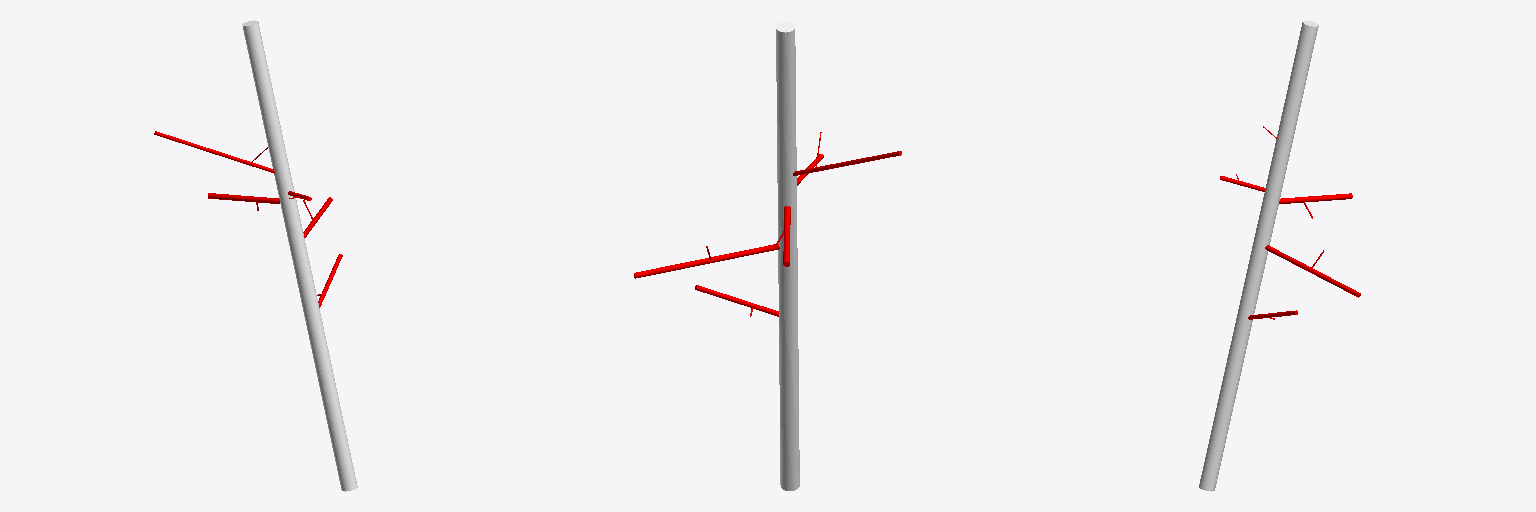
robot.urdf — tree_79.urdf:
<?xml version='1.0' encoding='UTF-8'?>
<robot name="tree_79.urdf">
  <link name="branch_0">
    <inertial>
      <origin xyz="0.0 0.0 0.0" rpy="0.0 -0.0 0.0"/>
      <mass value="0.1"/>
      <inertia ixx="0.001" ixy="0.0" ixz="0.0" iyy="0.001" iyz="0.0" izz="0.001"/>
    </inertial>
    <visual name="branch_0_visual">
      <geometry>
        <cylinder radius="0.1415256445273359" length="8.578703348143257"/>
      </geometry>
      <material name="branch_material"/>
      <origin xyz="-0.47426705361641003 0.8879117211304809 4.16955888808327" rpy="2.7755575615628914e-17 0.23689203825002822 2.0613796187665487"/>
    </visual>
    <collision name="branch_0_collision">
      <geometry>
        <cylinder radius="0.1415256445273359" length="8.578703348143257"/>
      </geometry>
      <origin xyz="-0.47426705361641003 0.8879117211304809 4.16955888808327" rpy="2.7755575615628914e-17 0.23689203825002822 2.0613796187665487"/>
    </collision>
  </link>
  <link name="branch_1">
    <inertial>
      <origin xyz="0.0 0.0 0.0" rpy="0.0 -0.0 0.0"/>
      <mass value="0.1"/>
      <inertia ixx="0.001" ixy="0.0" ixz="0.0" iyy="0.001" iyz="0.0" izz="0.001"/>
    </inertial>
    <visual name="branch_1_visual">
      <geometry>
        <cylinder radius="0.043824155608109545" length="2.3409637559969525"/>
      </geometry>
      <material name="semantic_material"/>
      <origin xyz="0.0 0.0 0.0" rpy="0.0 -0.0 0.0"/>
    </visual>
    <collision name="branch_1_collision">
      <geometry>
        <cylinder radius="0.043824155608109545" length="2.3409637559969525"/>
      </geometry>
      <origin xyz="0.0 0.0 0.0" rpy="0.0 -0.0 0.0"/>
    </collision>
  </link>
  <link name="branch_2">
    <inertial>
      <origin xyz="0.0 0.0 0.0" rpy="0.0 -0.0 0.0"/>
      <mass value="0.1"/>
      <inertia ixx="0.001" ixy="0.0" ixz="0.0" iyy="0.001" iyz="0.0" izz="0.001"/>
    </inertial>
    <visual name="branch_2_visual">
      <geometry>
        <cylinder radius="0.013202871691664422" length="0.41410008428302064"/>
      </geometry>
      <material name="semantic_material"/>
      <origin xyz="0.0 0.0 0.0" rpy="0.0 -0.0 0.0"/>
    </visual>
    <collision name="branch_2_collision">
      <geometry>
        <cylinder radius="0.013202871691664422" length="0.41410008428302064"/>
      </geometry>
      <origin xyz="0.0 0.0 0.0" rpy="0.0 -0.0 0.0"/>
    </collision>
  </link>
  <link name="branch_3">
    <inertial>
      <origin xyz="0.0 0.0 0.0" rpy="0.0 -0.0 0.0"/>
      <mass value="0.1"/>
      <inertia ixx="0.001" ixy="0.0" ixz="0.0" iyy="0.001" iyz="0.0" izz="0.001"/>
    </inertial>
    <visual name="branch_3_visual">
      <geometry>
        <cylinder radius="0.03819354930536758" length="1.500390755220034"/>
      </geometry>
      <material name="semantic_material"/>
      <origin xyz="0.0 0.0 0.0" rpy="0.0 -0.0 0.0"/>
    </visual>
    <collision name="branch_3_collision">
      <geometry>
        <cylinder radius="0.03819354930536758" length="1.500390755220034"/>
      </geometry>
      <origin xyz="0.0 0.0 0.0" rpy="0.0 -0.0 0.0"/>
    </collision>
  </link>
  <link name="branch_4">
    <inertial>
      <origin xyz="0.0 0.0 0.0" rpy="0.0 -0.0 0.0"/>
      <mass value="0.1"/>
      <inertia ixx="0.001" ixy="0.0" ixz="0.0" iyy="0.001" iyz="0.0" izz="0.001"/>
    </inertial>
    <visual name="branch_4_visual">
      <geometry>
        <cylinder radius="0.013591816285844511" length="0.20842863907651513"/>
      </geometry>
      <material name="semantic_material"/>
      <origin xyz="0.0 0.0 0.0" rpy="0.0 -0.0 0.0"/>
    </visual>
    <collision name="branch_4_collision">
      <geometry>
        <cylinder radius="0.013591816285844511" length="0.20842863907651513"/>
      </geometry>
      <origin xyz="0.0 0.0 0.0" rpy="0.0 -0.0 0.0"/>
    </collision>
  </link>
  <link name="branch_5">
    <inertial>
      <origin xyz="0.0 0.0 0.0" rpy="0.0 -0.0 0.0"/>
      <mass value="0.1"/>
      <inertia ixx="0.001" ixy="0.0" ixz="0.0" iyy="0.001" iyz="0.0" izz="0.001"/>
    </inertial>
    <visual name="branch_5_visual">
      <geometry>
        <cylinder radius="0.04911388080044134" length="1.6050568657706819"/>
      </geometry>
      <material name="semantic_material"/>
      <origin xyz="0.0 0.0 0.0" rpy="0.0 -0.0 0.0"/>
    </visual>
    <collision name="branch_5_collision">
      <geometry>
        <cylinder radius="0.04911388080044134" length="1.6050568657706819"/>
      </geometry>
      <origin xyz="0.0 0.0 0.0" rpy="0.0 -0.0 0.0"/>
    </collision>
  </link>
  <link name="branch_6">
    <inertial>
      <origin xyz="0.0 0.0 0.0" rpy="0.0 -0.0 0.0"/>
      <mass value="0.1"/>
      <inertia ixx="0.001" ixy="0.0" ixz="0.0" iyy="0.001" iyz="0.0" izz="0.001"/>
    </inertial>
    <visual name="branch_6_visual">
      <geometry>
        <cylinder radius="0.014735619324254164" length="0.3642210166222826"/>
      </geometry>
      <material name="semantic_material"/>
      <origin xyz="0.0 0.0 0.0" rpy="0.0 -0.0 0.0"/>
    </visual>
    <collision name="branch_6_collision">
      <geometry>
        <cylinder radius="0.014735619324254164" length="0.3642210166222826"/>
      </geometry>
      <origin xyz="0.0 0.0 0.0" rpy="0.0 -0.0 0.0"/>
    </collision>
  </link>
  <link name="branch_7">
    <inertial>
      <origin xyz="0.0 0.0 0.0" rpy="0.0 -0.0 0.0"/>
      <mass value="0.1"/>
      <inertia ixx="0.001" ixy="0.0" ixz="0.0" iyy="0.001" iyz="0.0" izz="0.001"/>
    </inertial>
    <visual name="branch_7_visual">
      <geometry>
        <cylinder radius="0.03358472869984948" length="2.531314463759947"/>
      </geometry>
      <material name="semantic_material"/>
      <origin xyz="0.0 0.0 0.0" rpy="0.0 -0.0 0.0"/>
    </visual>
    <collision name="branch_7_collision">
      <geometry>
        <cylinder radius="0.03358472869984948" length="2.531314463759947"/>
      </geometry>
      <origin xyz="0.0 0.0 0.0" rpy="0.0 -0.0 0.0"/>
    </collision>
  </link>
  <link name="branch_8">
    <inertial>
      <origin xyz="0.0 0.0 0.0" rpy="0.0 -0.0 0.0"/>
      <mass value="0.1"/>
      <inertia ixx="0.001" ixy="0.0" ixz="0.0" iyy="0.001" iyz="0.0" izz="0.001"/>
    </inertial>
    <visual name="branch_8_visual">
      <geometry>
        <cylinder radius="0.01" length="0.5770764838692389"/>
      </geometry>
      <material name="semantic_material"/>
      <origin xyz="0.0 0.0 0.0" rpy="0.0 -0.0 0.0"/>
    </visual>
    <collision name="branch_8_collision">
      <geometry>
        <cylinder radius="0.01" length="0.5770764838692389"/>
      </geometry>
      <origin xyz="0.0 0.0 0.0" rpy="0.0 -0.0 0.0"/>
    </collision>
  </link>
  <link name="branch_9">
    <inertial>
      <origin xyz="0.0 0.0 0.0" rpy="0.0 -0.0 0.0"/>
      <mass value="0.1"/>
      <inertia ixx="0.001" ixy="0.0" ixz="0.0" iyy="0.001" iyz="0.0" izz="0.001"/>
    </inertial>
    <visual name="branch_9_visual">
      <geometry>
        <cylinder radius="0.03788373082030249" length="0.9408402181987268"/>
      </geometry>
      <material name="semantic_material"/>
      <origin xyz="0.0 0.0 0.0" rpy="0.0 -0.0 0.0"/>
    </visual>
    <collision name="branch_9_collision">
      <geometry>
        <cylinder radius="0.03788373082030249" length="0.9408402181987268"/>
      </geometry>
      <origin xyz="0.0 0.0 0.0" rpy="0.0 -0.0 0.0"/>
    </collision>
  </link>
  <link name="branch_10">
    <inertial>
      <origin xyz="0.0 0.0 0.0" rpy="0.0 -0.0 0.0"/>
      <mass value="0.1"/>
      <inertia ixx="0.001" ixy="0.0" ixz="0.0" iyy="0.001" iyz="0.0" izz="0.001"/>
    </inertial>
    <visual name="branch_10_visual">
      <geometry>
        <cylinder radius="0.01" length="0.2746321736475831"/>
      </geometry>
      <material name="semantic_material"/>
      <origin xyz="0.0 0.0 0.0" rpy="0.0 -0.0 0.0"/>
    </visual>
    <collision name="branch_10_collision">
      <geometry>
        <cylinder radius="0.01" length="0.2746321736475831"/>
      </geometry>
      <origin xyz="0.0 0.0 0.0" rpy="0.0 -0.0 0.0"/>
    </collision>
  </link>
  <joint name="joint_0_1" type="fixed">
    <parent link="branch_0"/>
    <child link="branch_1"/>
    <axis xyz="1. 0. 0."/>
    <origin xyz="0.3128644225658249 1.770028498312702 4.273943881531223" rpy="-1.9457485451553798 1.3292833378479827 -1.1338109014837947"/>
  </joint>
  <joint name="joint_0_3" type="fixed">
    <parent link="branch_0"/>
    <child link="branch_3"/>
    <axis xyz="1. 0. 0."/>
    <origin xyz="0.1808647155882137 1.0920591678828153 3.3530012533856093" rpy="-0.5316929223888256 1.0920739381038562 0.11078343867218736"/>
  </joint>
  <joint name="joint_0_5" type="fixed">
    <parent link="branch_0"/>
    <child link="branch_5"/>
    <axis xyz="1. 0. 0."/>
    <origin xyz="-0.9761960275884776 1.7824032252454718 5.008999165352847" rpy="3.1022123141213034 1.4114401607824731 -1.0932145211899804"/>
  </joint>
  <joint name="joint_0_7" type="fixed">
    <parent link="branch_0"/>
    <child link="branch_7"/>
    <axis xyz="1. 0. 0."/>
    <origin xyz="-1.7526467354289754 1.4644925891753673 6.1803603033468635" rpy="0.41852209257801654 1.08061377223447 -2.9080622839765415"/>
  </joint>
  <joint name="joint_0_9" type="fixed">
    <parent link="branch_0"/>
    <child link="branch_9"/>
    <axis xyz="1. 0. 0."/>
    <origin xyz="-0.633118570830509 0.678839823070022 5.437928366134033" rpy="0.42036677117351834 1.2741019748976505 -1.1972449507521084"/>
  </joint>
  <joint name="joint_1_2" type="fixed">
    <parent link="branch_0"/>
    <child link="branch_2"/>
    <axis xyz="1. 0. 0."/>
    <origin xyz="0.28044655398250556 1.890110433567245 4.440706671177696" rpy="0.5775555654121617 -0.2707374147951446 -2.4577158459882282"/>
  </joint>
  <joint name="joint_3_4" type="fixed">
    <parent link="branch_0"/>
    <child link="branch_4"/>
    <axis xyz="1. 0. 0."/>
    <origin xyz="0.026958824826509936 1.076557191158351 3.2364963951544774" rpy="2.0917726843686038 0.47621845287463116 -2.568676712791754"/>
  </joint>
  <joint name="joint_5_6" type="fixed">
    <parent link="branch_0"/>
    <child link="branch_6"/>
    <axis xyz="1. 0. 0."/>
    <origin xyz="-0.8365085676333418 1.726711321864206 4.884821484092782" rpy="-2.555781896143377 0.1527738921801367 -0.8477260916994748"/>
  </joint>
  <joint name="joint_7_8" type="fixed">
    <parent link="branch_0"/>
    <child link="branch_8"/>
    <axis xyz="1. 0. 0."/>
    <origin xyz="-1.1409801581444154 1.1490807467706807 6.1238753501145" rpy="0.6166989791418663 0.4628716495534718 -0.21917958198419746"/>
  </joint>
  <joint name="joint_9_10" type="fixed">
    <parent link="branch_0"/>
    <child link="branch_10"/>
    <axis xyz="1. 0. 0."/>
    <origin xyz="-0.7743368718989512 0.5302113585762848 5.491701088324847" rpy="-1.4224165191739786 0.2384073137162333 1.7981901276204504"/>
  </joint>
  <material name="branch_material">
    <color rgba="1. 1. 1. 1."/>
  </material>
  <material name="semantic_material">
    <color rgba="1. 0. 0. 1."/>
  </material>
</robot>

--- Render facts (derived) ---
Views: 3 orthographic renders of the robot side by side, from view 1: azimuth 30°, elevation 25°; view 2: azimuth 150°, elevation 25°; view 3: azimuth 270°, elevation 25°.
Robot: tree_79.urdf — 11 links, 10 joints (10 fixed); root link branch_0; default pose: all joints at 0.
Links seen in each view (by area): view 1: branch_0; view 2: branch_0, branch_1; view 3: branch_0, branch_1.
Link boxes in pixels (left/top/right/bottom): branch_0: left=242, top=20, right=357, bottom=491; branch_0: left=776, top=21, right=799, bottom=490; branch_1: left=634, top=244, right=779, bottom=278; branch_0: left=1199, top=20, right=1318, bottom=491; branch_1: left=1265, top=245, right=1360, bottom=297.
Size in the robot's own frame: 4.04 by 2.78 by 8.41 metres.
Geometry: primitives only (box / cylinder / sphere), no mesh files.